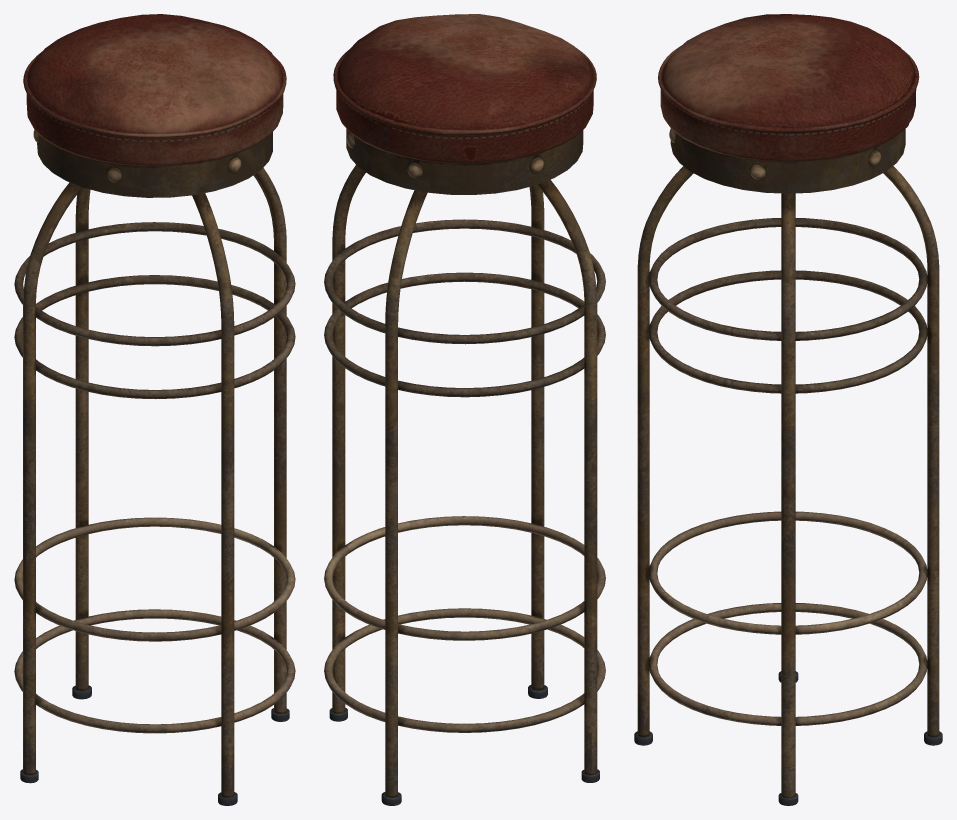
The model's file is metal_stool_01.gltf.
3 renders of one model, left to right at view 1: azimuth 30°, elevation 25°; view 2: azimuth 150°, elevation 25°; view 3: azimuth 270°, elevation 25°, orthographic.
Parts seen in each view (by area): view 1: metal_stool_01; view 2: metal_stool_01; view 3: metal_stool_01.
Part boxes in pixels (x1,y1,x2,y2): metal_stool_01: (14, 14, 295, 805); metal_stool_01: (324, 14, 605, 805); metal_stool_01: (634, 14, 942, 805).
Size of the model in its own units: 0.352 by 0.8828 by 0.3546.
Materials: 1 (1 with a texture image).
